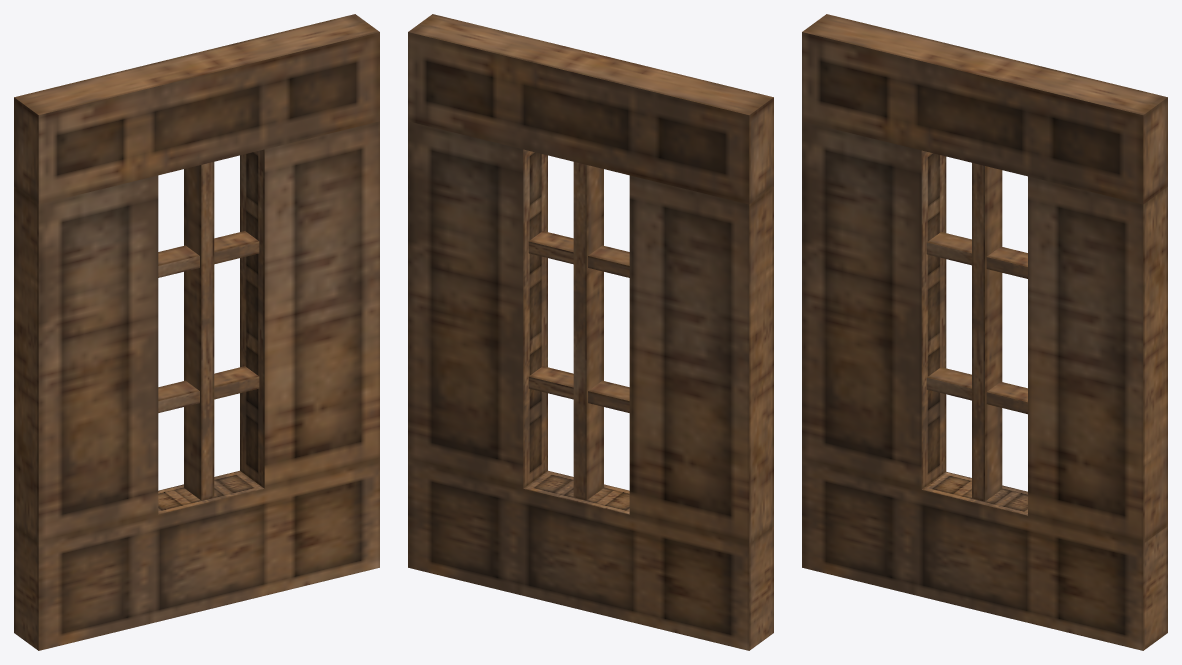
File: wooden_window_2x3.fbx
3 renders of one model, left to right at view 1: azimuth 30°, elevation 25°; view 2: azimuth 150°, elevation 25°; view 3: azimuth 330°, elevation 25°, orthographic.
Parts seen in each view (by area): view 1: Window_2x3; view 2: Window_2x3; view 3: Window_2x3.
Boxes of the visible parts, <box> form: Window_2x3: <box>14,14,379,650</box>; Window_2x3: <box>408,14,773,650</box>; Window_2x3: <box>802,14,1167,650</box>.
Bounding box in the file's own units: 200 × 300 × 25.
